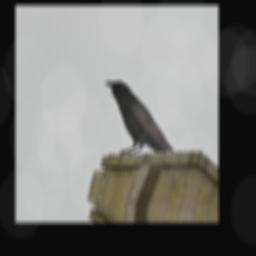Crow: (91, 74, 185, 175)
